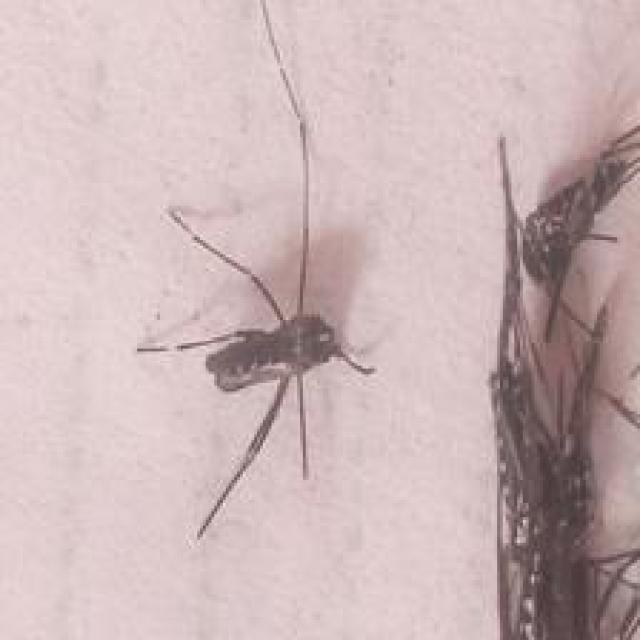Aedes albopictus: (485, 111, 640, 639)
